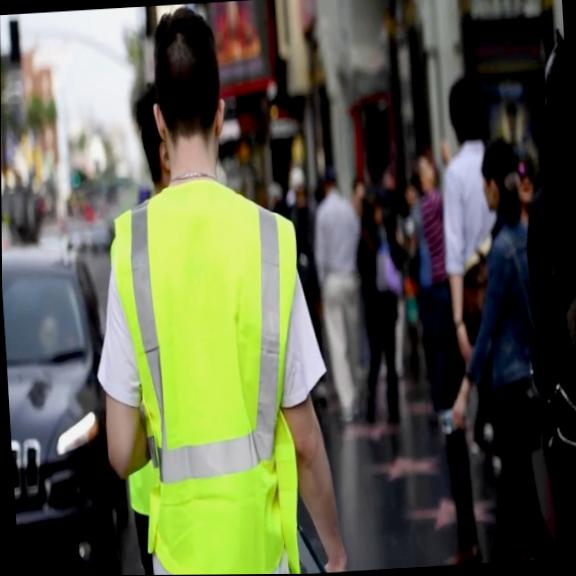safety_vest: (110, 170, 314, 575)
